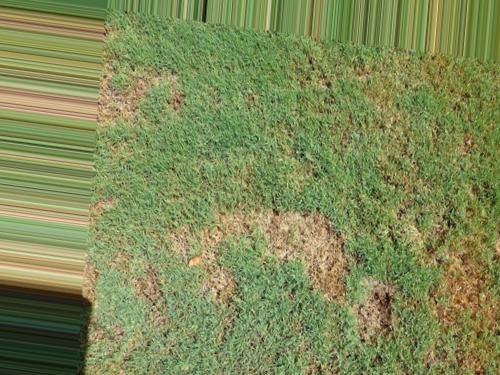patch: (279, 228, 334, 263), (353, 281, 387, 328)
